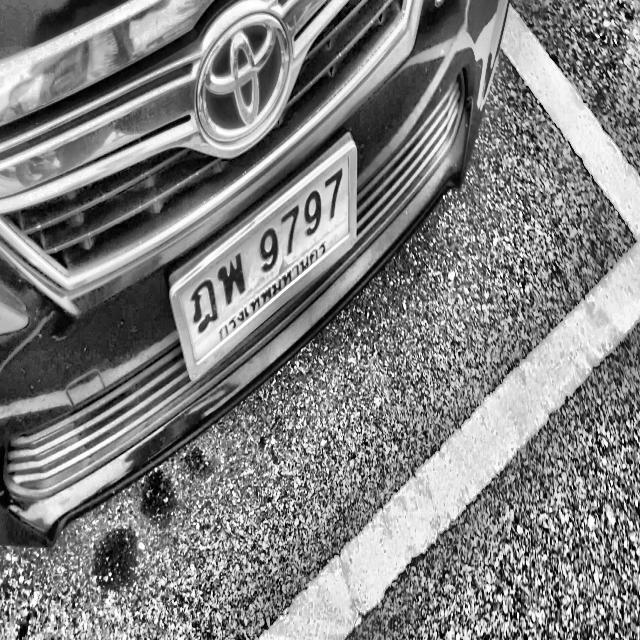license-plate: (166, 123, 358, 387)
